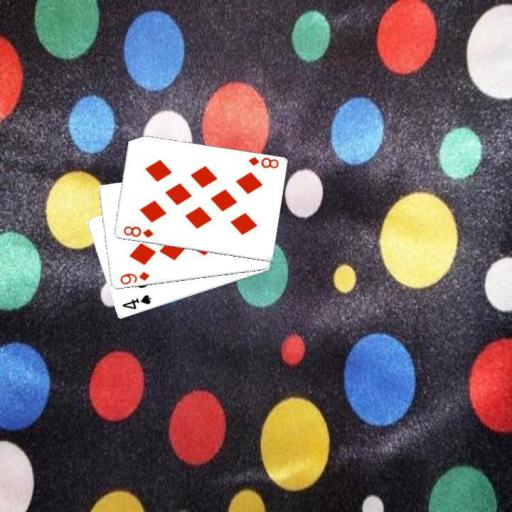4S: (119, 292, 152, 311)
8D: (120, 223, 155, 240), (246, 154, 281, 170)
9D: (117, 269, 151, 286)
